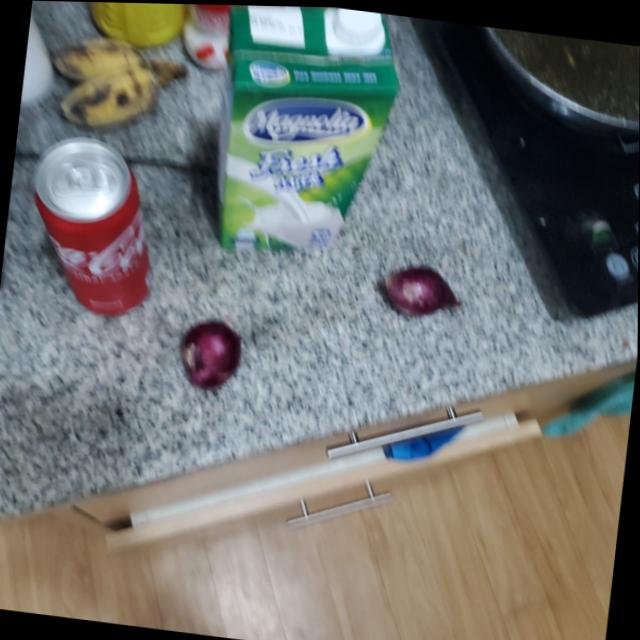coke: (20, 133, 171, 316)
milk: (203, 4, 408, 267)
onion: (172, 311, 246, 399), (377, 257, 467, 322)
